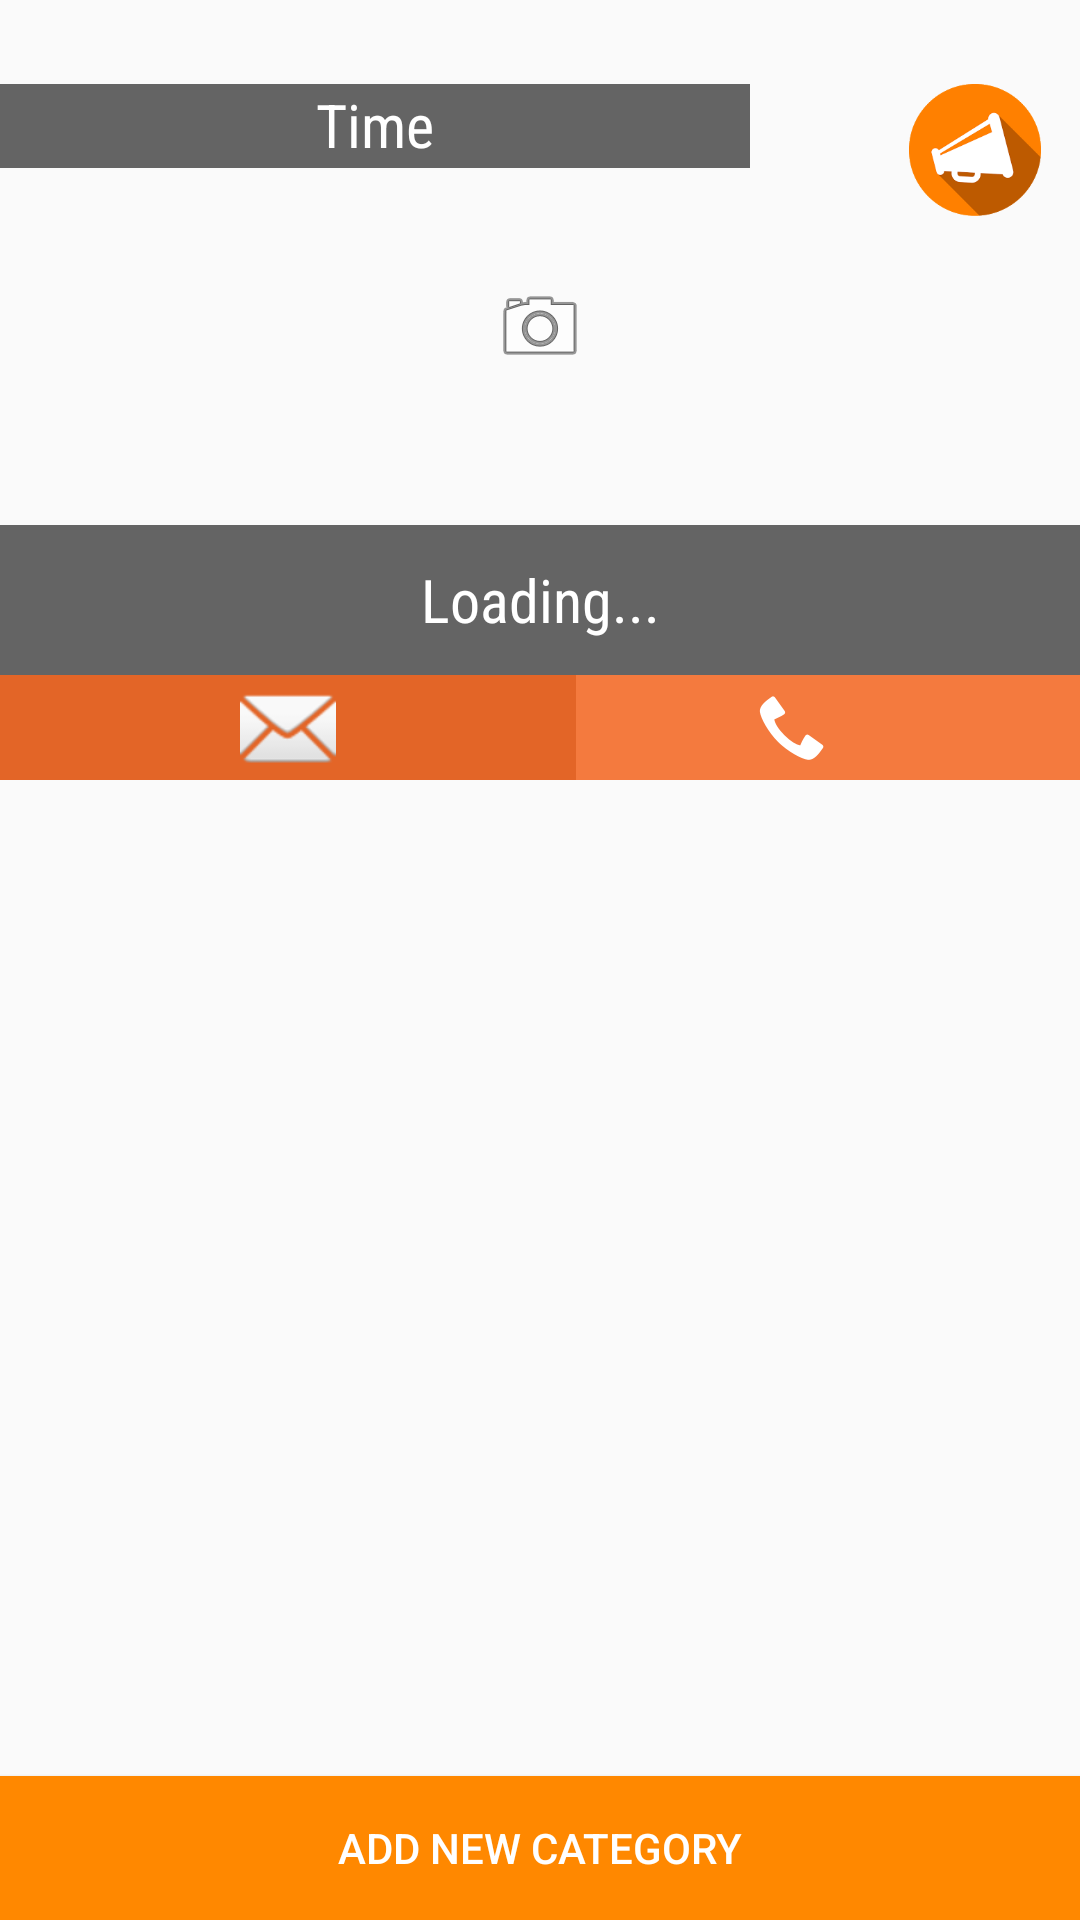

Icon bounding boxes for this 1080×1920 phone screenshot, format (x1, y1, x2, y2):
advertisementicon: (909, 84, 1041, 216)
camera: (503, 296, 577, 355)
